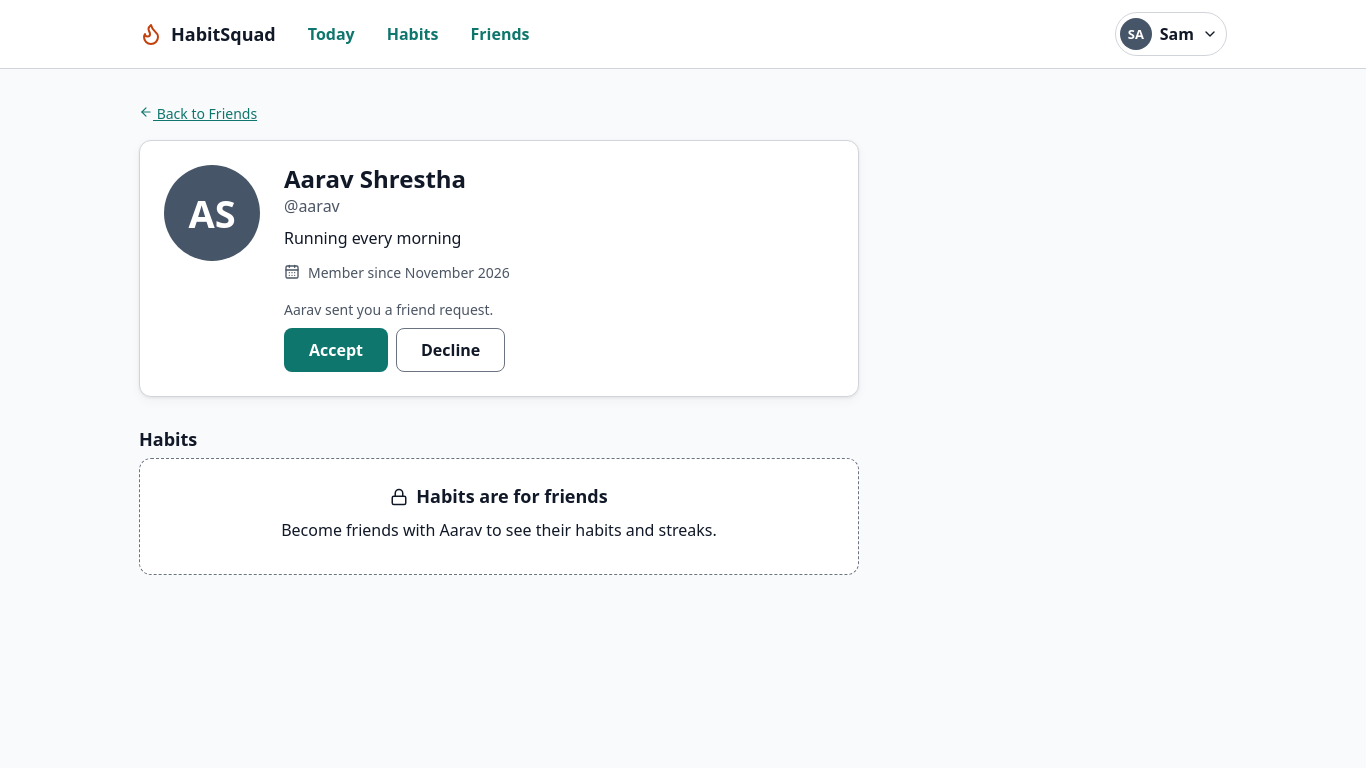
Test case: PersonProfilePage › explains when the request is already gone
expect the heading "Aarav Shrestha" is shown: met, box [284,162,466,195]
Click the button "Accept".
click(336, 350)  # box [284,328,388,372]
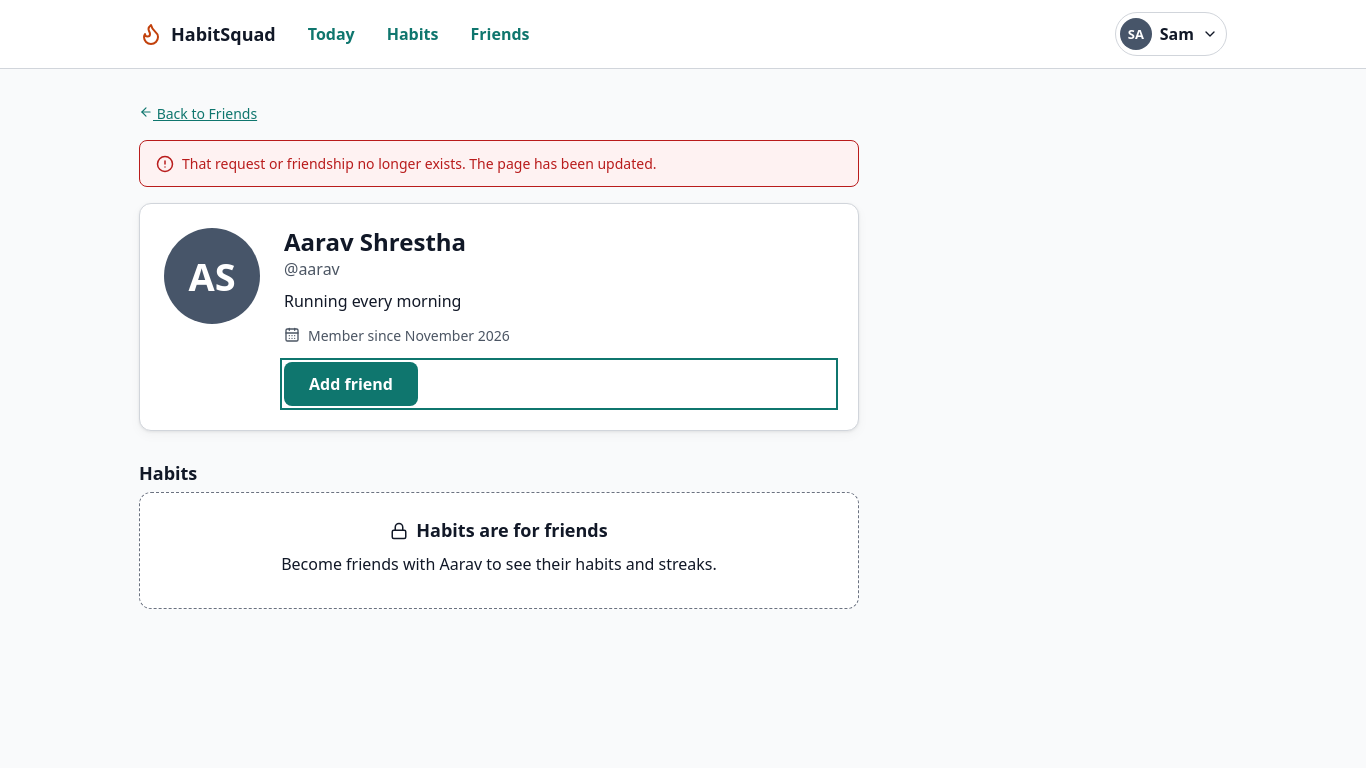
expect the text "That request or friendship no longer exists. The page has been updated." is shown: met, box [182,153,656,174]
expect the button "Add friend" is shown: met, box [284,362,418,406]
